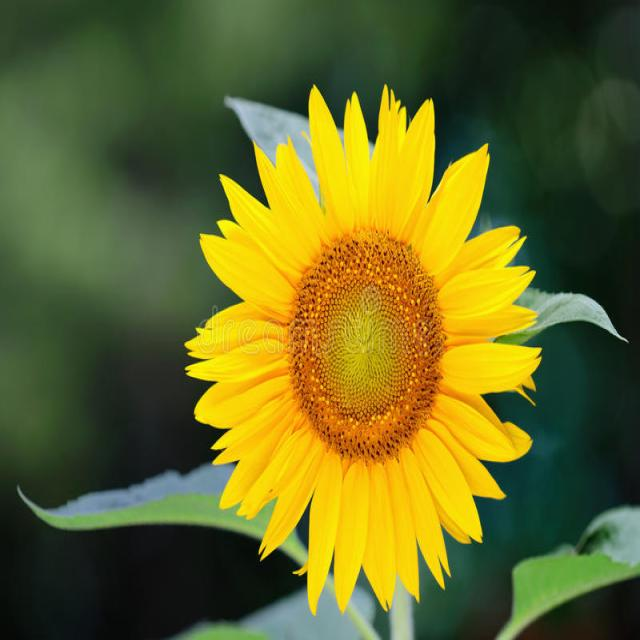sunflower: (181, 70, 554, 614)
